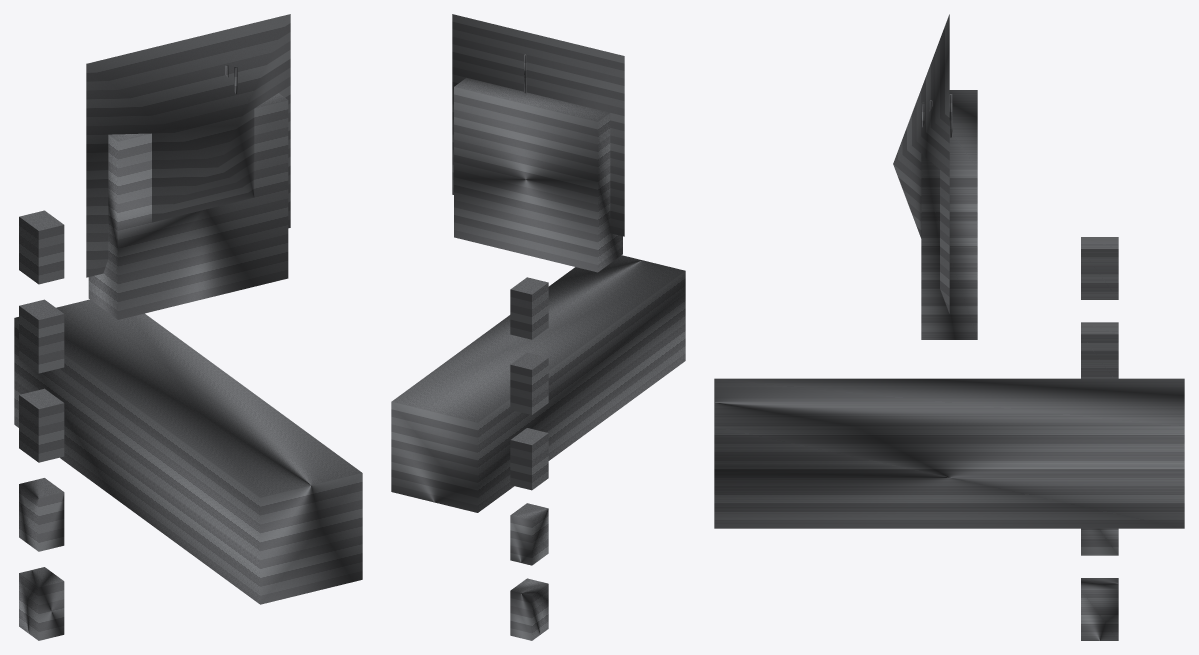
The model's file is tower.obj.
3 renders of one model, left to right at view 1: azimuth 30°, elevation 25°; view 2: azimuth 150°, elevation 25°; view 3: azimuth 270°, elevation 25°, orthographic. The views are drawn at different scales.
Visible parts, largest first — view 1: tower; view 2: tower; view 3: tower.
Boxes of the visible parts, <box> form: tower: <box>14,14,362,640</box>; tower: <box>391,14,685,640</box>; tower: <box>714,14,1184,640</box>.
Bounding box in the file's own units: 12 × 35.5 × 25.
Materials: 1 (1 with a texture image).
